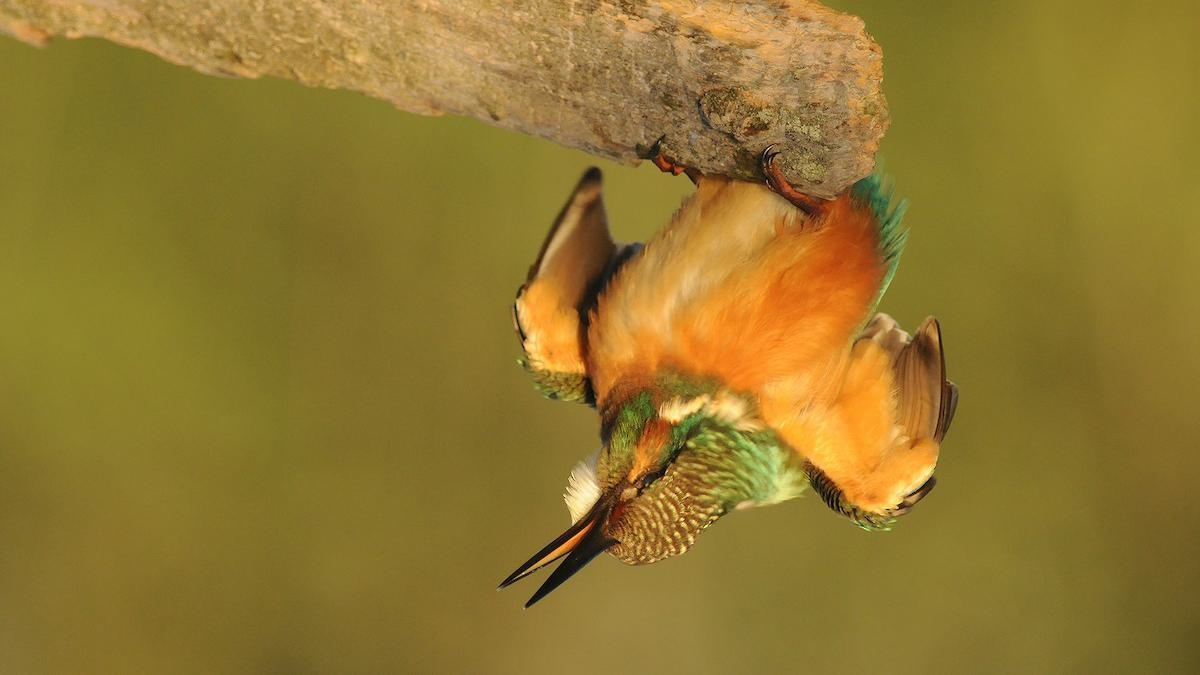kingfisher: (477, 133, 958, 605)
